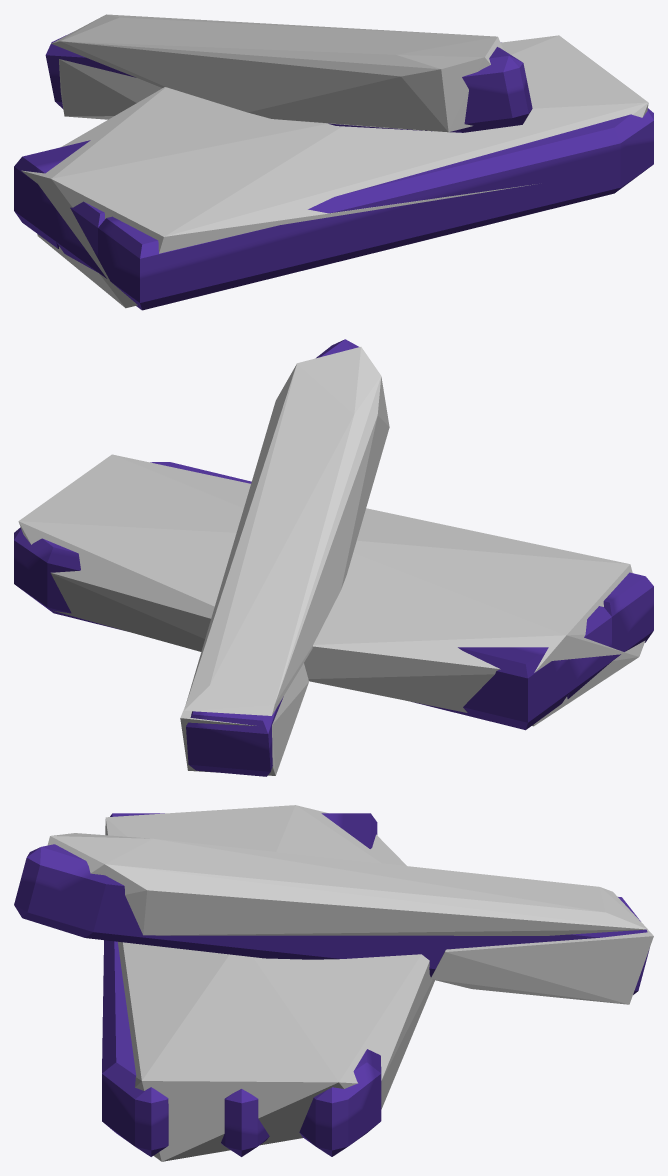
The model's file is SM_Item_Wax_Stick_02.fbx.
3 views of the same model, one above another, from view 1: azimuth 30°, elevation 25°; view 2: azimuth 150°, elevation 25°; view 3: azimuth 270°, elevation 25° (orthographic). The views are drawn at different scales.
Visible parts, largest first — view 1: SM_Item_Wax_Stick_02_ConvexHulls, SM_Item_Wax_Stick_02; view 2: SM_Item_Wax_Stick_02_ConvexHulls, SM_Item_Wax_Stick_02; view 3: SM_Item_Wax_Stick_02_ConvexHulls, SM_Item_Wax_Stick_02.
Part boxes in pixels (x1,y1,x2,y2): SM_Item_Wax_Stick_02_ConvexHulls: (21, 14, 648, 308); SM_Item_Wax_Stick_02: (14, 33, 653, 310); SM_Item_Wax_Stick_02_ConvexHulls: (18, 347, 645, 775); SM_Item_Wax_Stick_02: (14, 339, 653, 776); SM_Item_Wax_Stick_02_ConvexHulls: (47, 805, 653, 1161); SM_Item_Wax_Stick_02: (14, 813, 649, 1156).
Bounding box in the file's own units: 17.71 × 17.04 × 6.44.
Materials: 2 (1 with a texture image).
